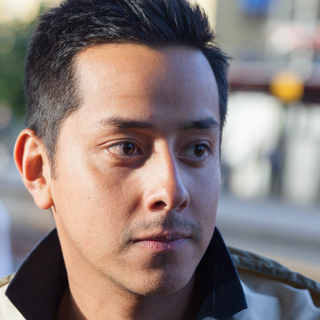eye: (92, 135, 147, 164), (172, 136, 217, 166)
